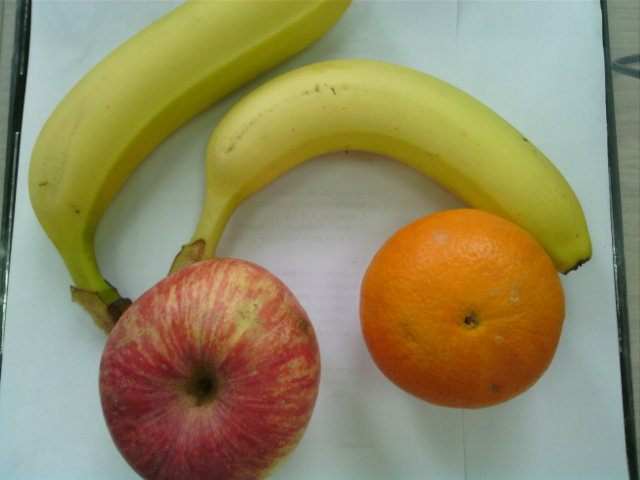normal_apple: (97, 260, 322, 480)
normal_banana: (28, 2, 355, 276), (205, 59, 592, 277)
normal_orange: (360, 207, 568, 410)
